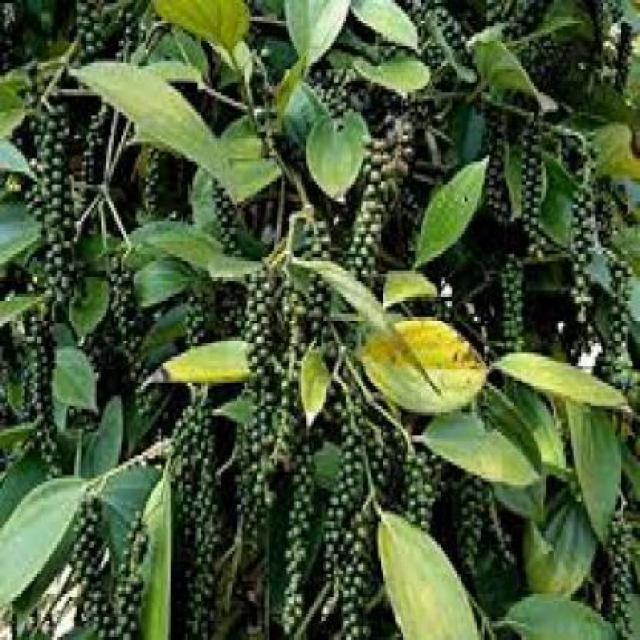UNRIPE: (169, 365, 218, 624), (321, 402, 368, 633), (32, 82, 75, 293), (242, 234, 269, 551), (104, 258, 153, 422), (348, 135, 401, 284), (511, 109, 564, 251), (278, 429, 314, 637), (25, 300, 62, 478), (601, 211, 638, 386), (67, 492, 108, 636), (484, 244, 536, 353), (479, 89, 512, 222), (571, 158, 591, 350), (610, 518, 638, 637), (119, 514, 146, 637)
